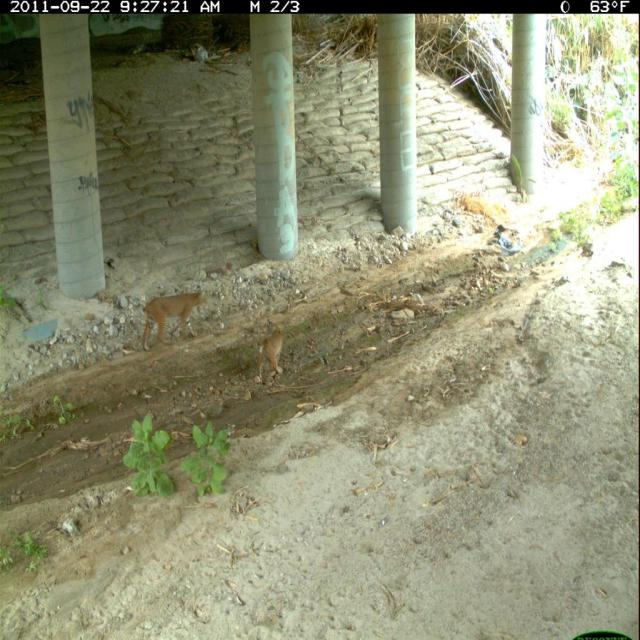bobcat: (138, 283, 212, 356), (253, 314, 291, 387)
